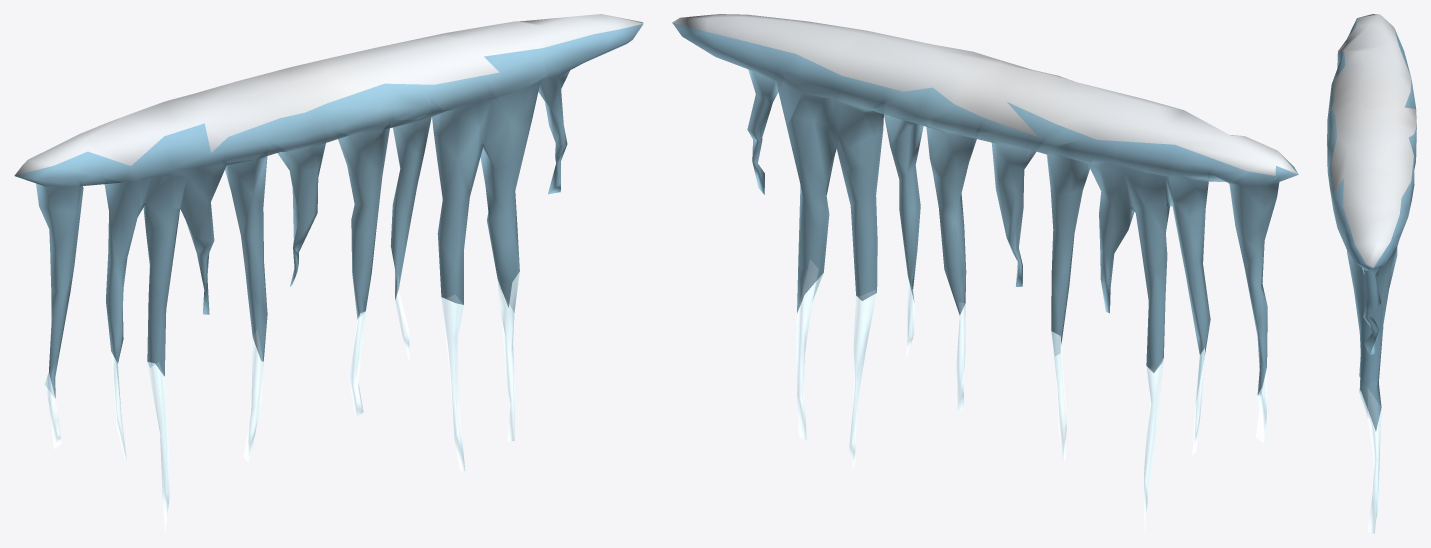
The model's file is frost_icicle_cluster_b_lod2.glb.
3 renders of one model, left to right at view 1: azimuth 30°, elevation 25°; view 2: azimuth 150°, elevation 25°; view 3: azimuth 270°, elevation 25°, orthographic. The views are drawn at different scales.
Parts seen in each view (by area): view 1: frost_icicle_cluster_b.001; view 2: frost_icicle_cluster_b.001; view 3: frost_icicle_cluster_b.001.
Boxes of the visible parts, x1,y1,x2,y2 form: frost_icicle_cluster_b.001: (14, 14, 643, 532); frost_icicle_cluster_b.001: (672, 14, 1298, 532); frost_icicle_cluster_b.001: (1327, 14, 1416, 533).
Bounding box in the file's own units: 18.04 × 11.98 × 2.7.
